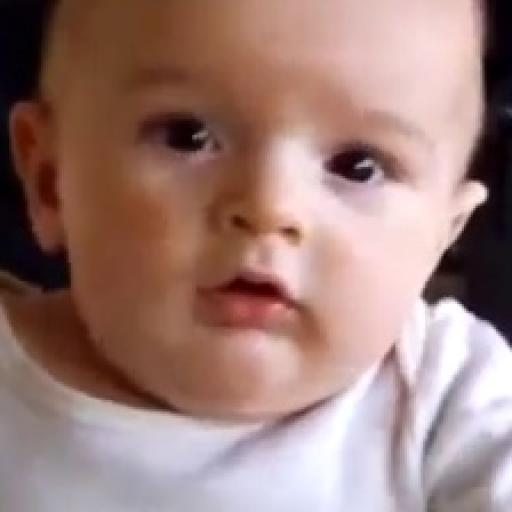Autism: (55, 6, 481, 420)
